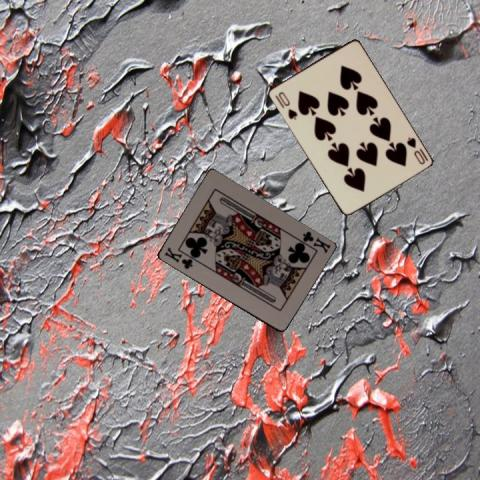10s: (274, 88, 299, 120), (403, 134, 426, 166)
Kc: (299, 228, 332, 255), (161, 244, 194, 270)
